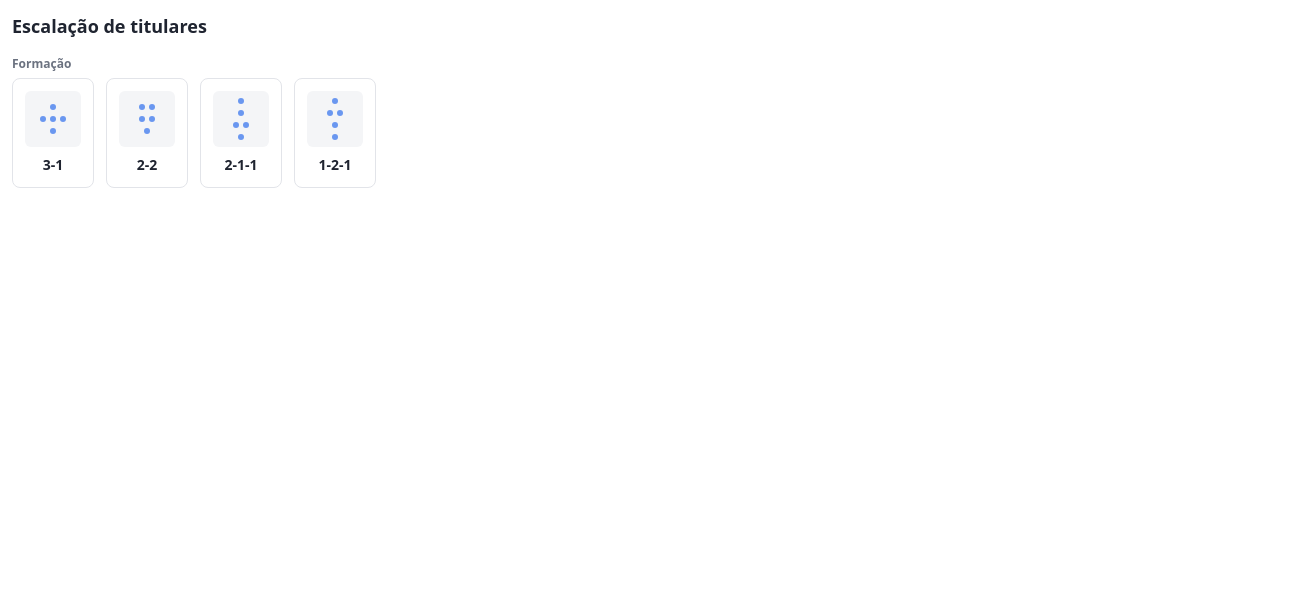
ClubLineup › renderiza o seletor de formação e as vagas depois de escolher uma formação
The width and height of the screenshot is (1292, 600).
Click the radio button labelled "2-1-1": click(241, 133) x1=200 y1=78 x2=282 y2=188
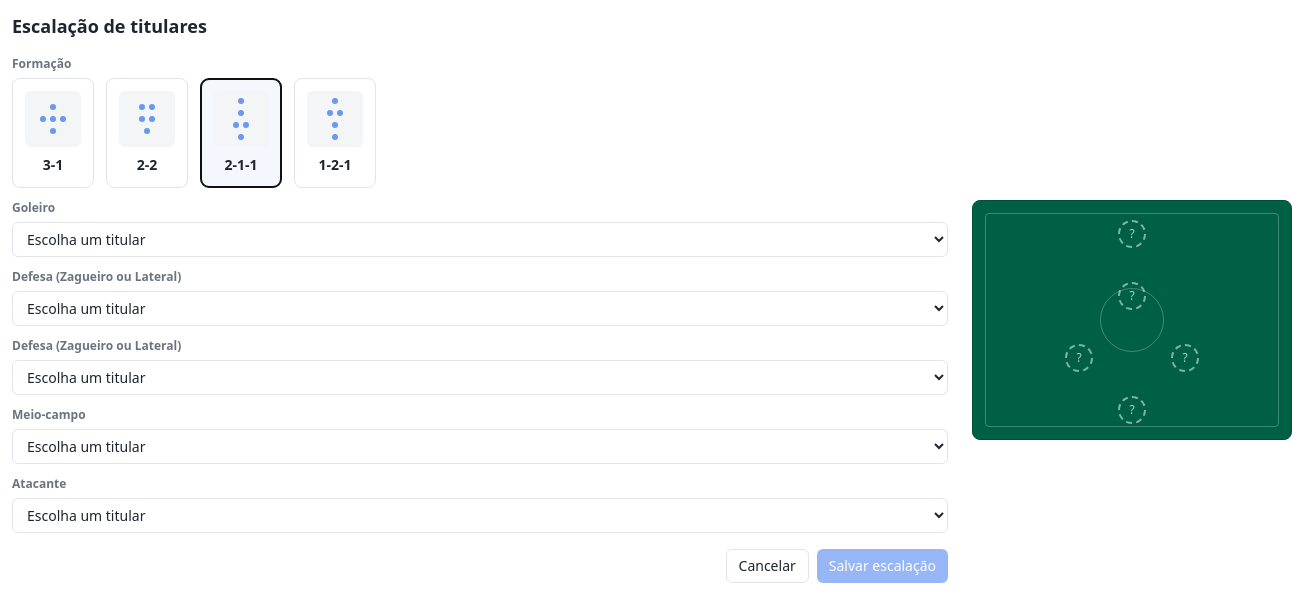
Check: the dropdown labelled "Goleiro" is shown, box x1=12 y1=222 x2=948 y2=257
Check: the number of dropdowns labelled "Defesa (Zagueiro ou Lateral)" is 2, box x1=12 y1=291 x2=948 y2=326; x1=12 y1=360 x2=948 y2=395
Check: the dropdown labelled "Meio-campo" is shown, box x1=12 y1=429 x2=948 y2=464
